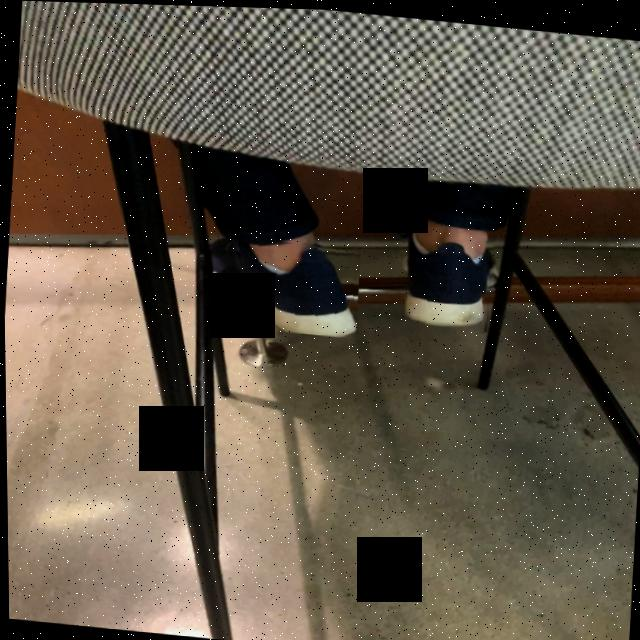shoe: (209, 237, 355, 336), (399, 217, 493, 327)
